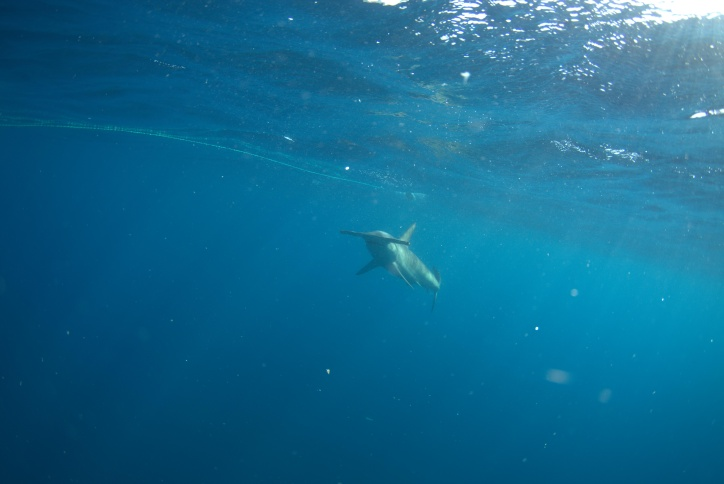Hammer: (321, 212, 458, 327)
